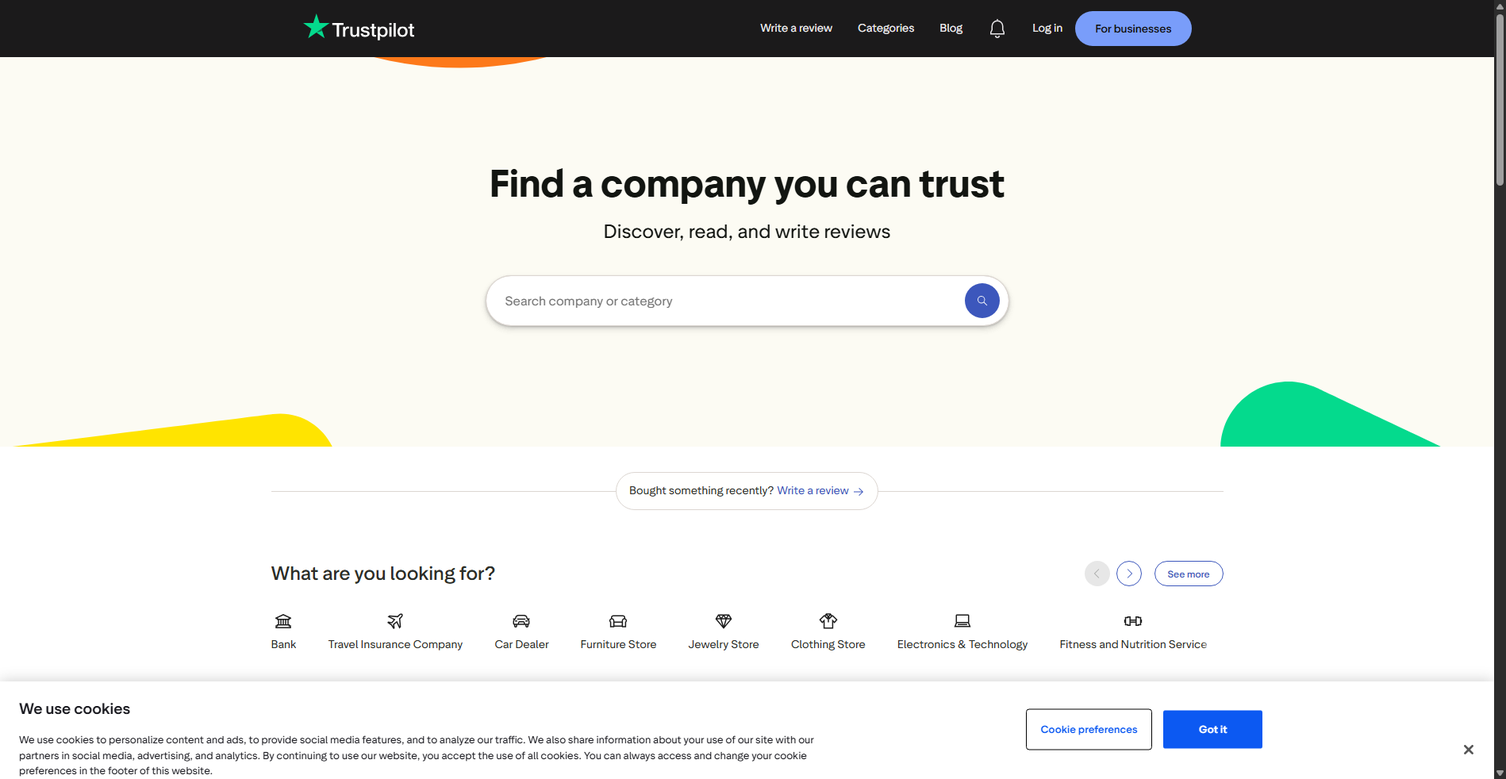general_button: (616, 472, 878, 510), (1028, 710, 1150, 748), (1075, 11, 1191, 46), (1163, 710, 1263, 748), (629, 483, 865, 499), (1092, 730, 1191, 765), (975, 0, 1020, 57), (1154, 561, 1223, 586), (1095, 22, 1172, 35), (1111, 741, 1172, 754), (1084, 561, 1110, 586), (1116, 561, 1141, 586), (1168, 568, 1210, 579), (988, 19, 1007, 38), (976, 294, 988, 307), (1091, 568, 1103, 579), (1123, 568, 1134, 579)
general_image: (303, 13, 414, 40), (1253, 612, 1273, 631), (274, 612, 293, 631), (386, 612, 405, 631), (512, 612, 531, 631), (609, 612, 628, 631), (714, 612, 733, 631), (819, 612, 838, 631), (953, 612, 972, 631), (1124, 612, 1143, 631), (1349, 612, 1368, 631), (1469, 612, 1488, 631)
general_link: (1060, 605, 1207, 659), (328, 605, 463, 659), (897, 605, 1028, 659), (748, 0, 845, 57), (845, 0, 927, 57), (1319, 605, 1399, 659), (580, 605, 656, 659), (1431, 605, 1506, 659), (791, 605, 865, 659), (688, 605, 759, 659), (303, 13, 414, 44), (1020, 0, 1075, 57), (494, 605, 549, 659), (927, 0, 975, 57), (1239, 605, 1287, 659), (271, 605, 296, 659)
icon_close: (1451, 732, 1486, 767)
icon_search: (485, 275, 1009, 326), (964, 283, 999, 318)
